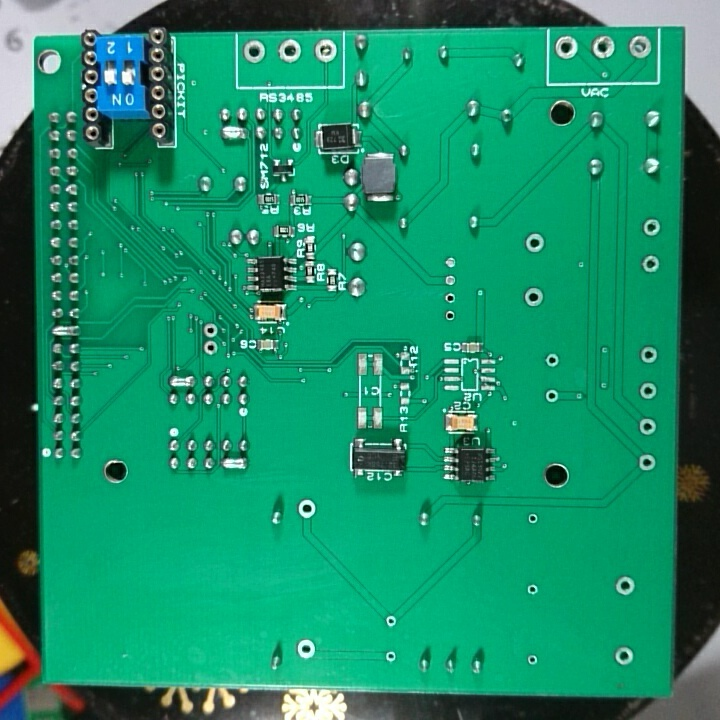F: (589, 32, 618, 65), (276, 39, 304, 67), (625, 32, 651, 62), (241, 38, 267, 66), (553, 35, 581, 61), (294, 496, 320, 524), (311, 37, 337, 64), (613, 574, 639, 600), (524, 230, 546, 258), (521, 286, 546, 310), (613, 646, 639, 669), (636, 415, 659, 440), (637, 343, 660, 367), (640, 252, 662, 277), (641, 217, 663, 239), (637, 381, 659, 403), (294, 638, 316, 660), (637, 452, 658, 474), (200, 338, 219, 358), (541, 351, 562, 369), (382, 612, 399, 632), (200, 322, 220, 339), (443, 288, 461, 306), (544, 386, 561, 405), (524, 580, 543, 596), (383, 646, 398, 666), (523, 652, 542, 667), (526, 510, 541, 527), (442, 256, 459, 269), (443, 307, 456, 324), (443, 272, 456, 288)
P: (219, 455, 250, 475), (219, 123, 248, 143), (49, 323, 83, 340), (167, 373, 197, 392)
